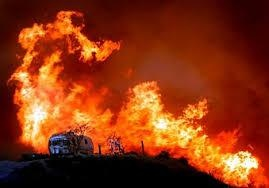fire: (9, 10, 250, 158)
